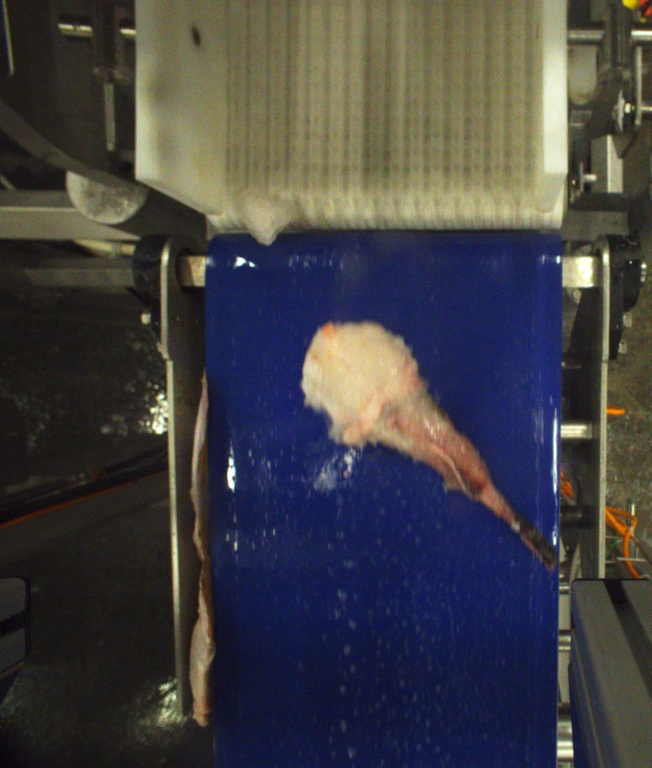ANF: (299, 317, 559, 578)
